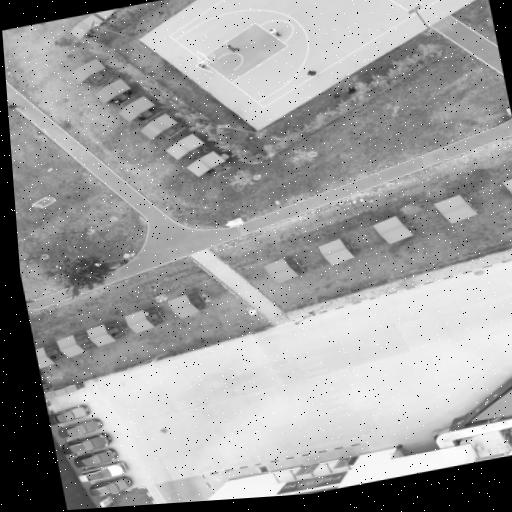car: (62, 432, 111, 454), (79, 461, 126, 481), (49, 404, 89, 424), (58, 419, 102, 437), (90, 475, 131, 494), (74, 448, 116, 466)
person: (227, 44, 239, 52), (347, 85, 355, 93), (271, 28, 280, 35), (8, 104, 22, 108), (307, 70, 318, 75), (123, 89, 132, 95), (197, 62, 206, 68), (207, 168, 216, 172), (333, 92, 340, 97), (111, 99, 122, 102), (137, 113, 144, 117), (26, 299, 33, 302)
